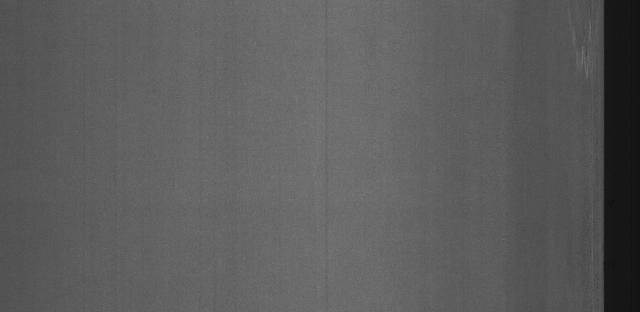silk_spot: (552, 11, 599, 93)
